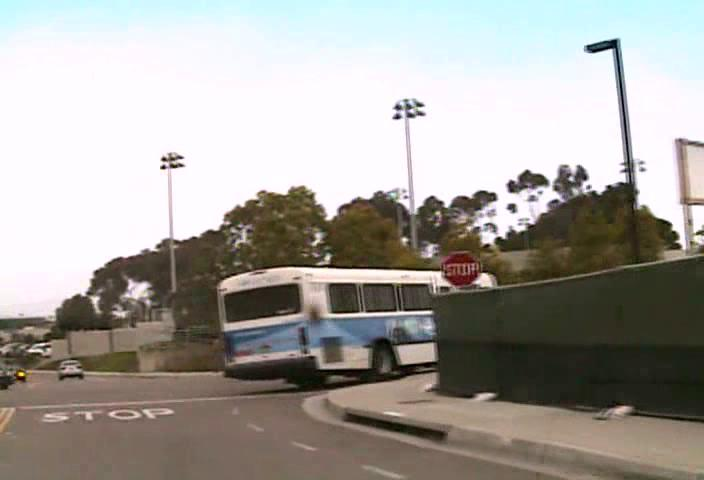stop: (441, 249, 481, 287)
